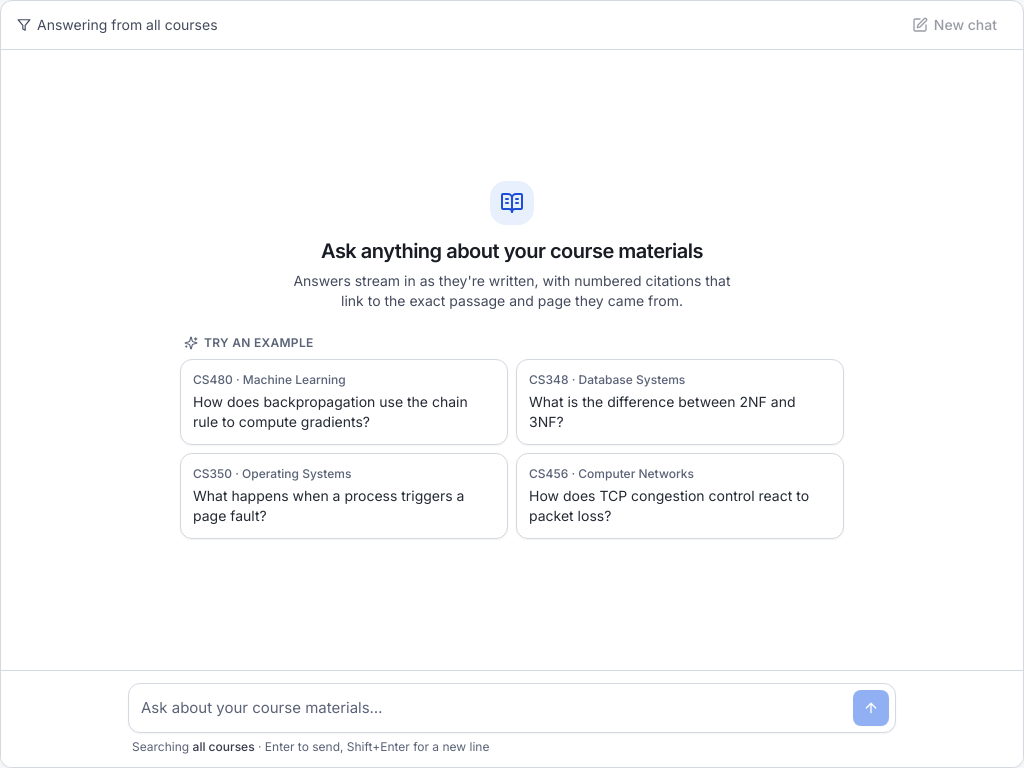
Test: ChatWindow › clicking a citation chip reveals and highlights its source card
The image size is (1024, 768).
Type "What is 3NF?" into the text box named "Ask a question" at (493, 708), box [141,690,845,726]
Then press Enter
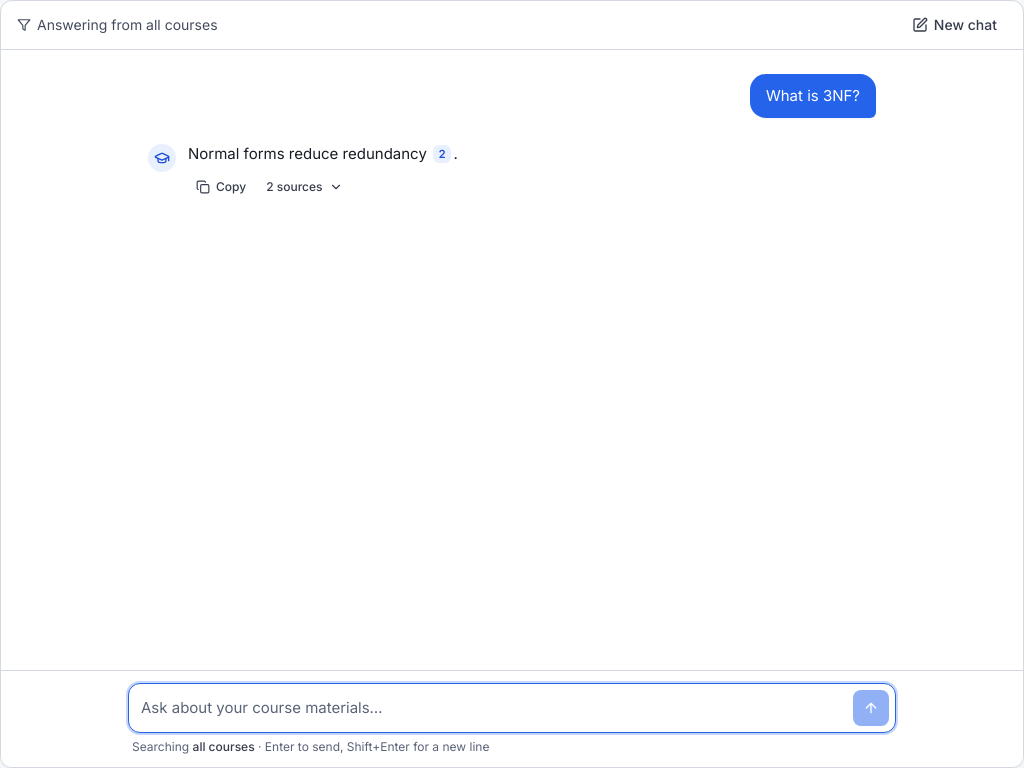
Click the button named "Show source 2: DB Notes, page 3" at (442, 154), box [433,145,451,164]
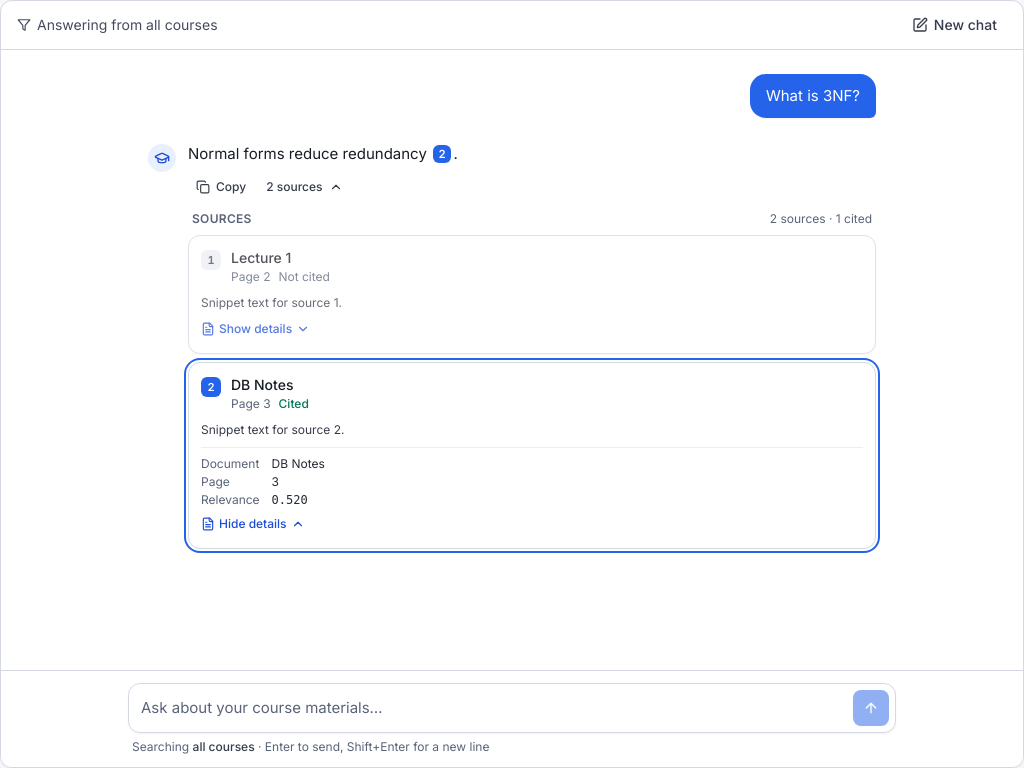
Result: the text "Cited" is shown at [279,396,309,412]
